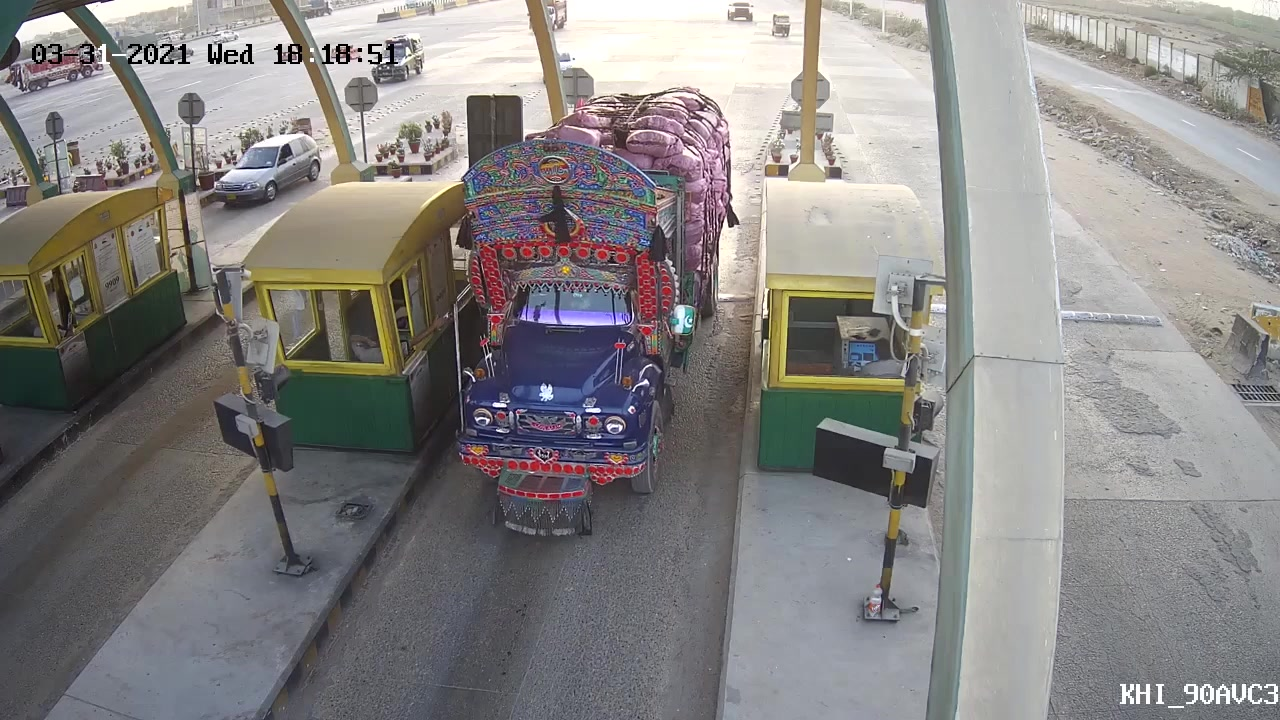F5: (449, 82, 732, 545)
